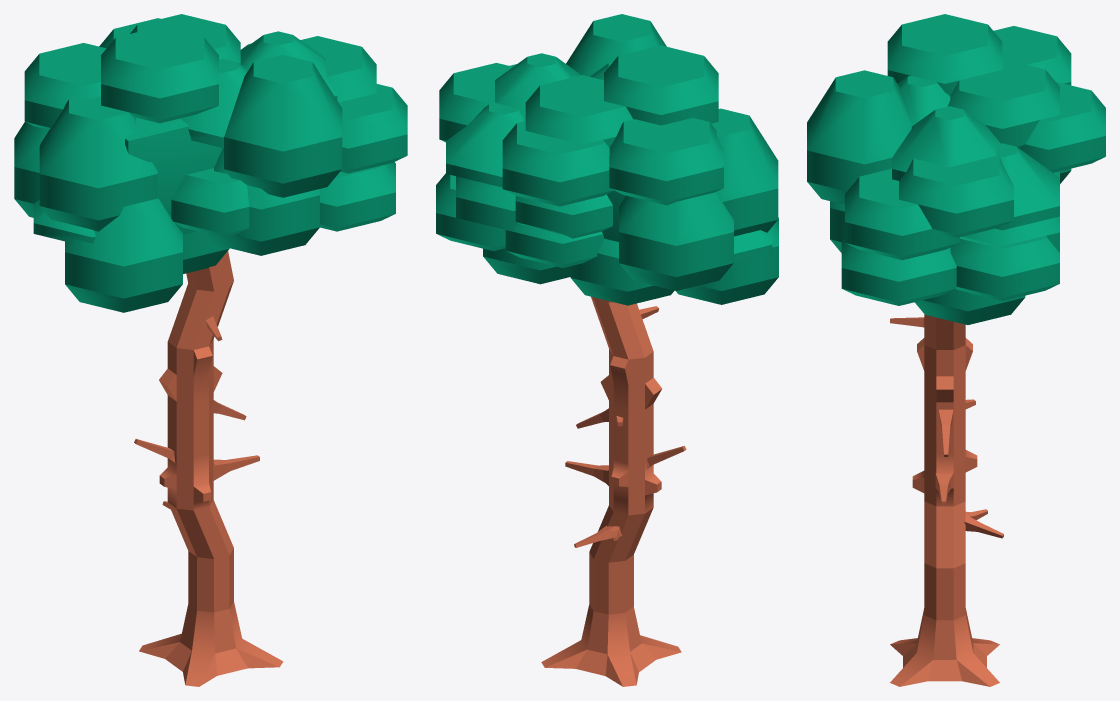
File: tree.glb
The picture shows the model from 3 angles, left to right: view 1: azimuth 30°, elevation 25°; view 2: azimuth 150°, elevation 25°; view 3: azimuth 270°, elevation 25°; orthographic projection. The views are drawn at different scales.
Parts seen in each view (by area): view 1: leafs_cone (×6), leafs_round (×7), trunk_baseDetailed, leafs_pineA (×3), trunk (×2), trunk_skewLarge (×2), leafs_square, trunk_detailedB, trunk_detailedA, trunk_skew; view 2: leafs_round (×9), leafs_cone (×6), leafs_pineA (×3), trunk_baseDetailed, trunk (×2), trunk_skewLarge (×2), trunk_detailedB, trunk_detailedA, leafs_square; view 3: leafs_round (×9), leafs_cone (×3), leafs_pineA (×3), trunk_baseDetailed, trunk (×2), trunk_skewLarge (×2), trunk_detailedB, trunk_detailedA, tree_branchLongSplit, tree_branchLong.
Boxes of the visible parts, x1,y1,x2,y2 form: leafs_cone (×6): [14, 55, 342, 312]; leafs_round (×7): [24, 14, 407, 237]; trunk_baseDetailed: [139, 602, 283, 686]; leafs_pineA (×3): [33, 31, 337, 243]; trunk (×2): [167, 393, 233, 612]; trunk_skewLarge (×2): [168, 281, 233, 558]; leafs_square: [125, 117, 222, 234]; trunk_detailedB: [159, 339, 222, 403]; trunk_detailedA: [159, 446, 214, 510]; trunk_skew: [186, 251, 233, 291]; leafs_round (×9): [436, 45, 723, 267]; leafs_cone (×6): [483, 14, 778, 305]; leafs_pineA (×3): [446, 53, 772, 264]; trunk_baseDetailed: [541, 604, 681, 686]; trunk (×2): [589, 401, 653, 614]; trunk_skewLarge (×2): [589, 296, 653, 562]; trunk_detailedB: [600, 349, 662, 411]; trunk_detailedA: [603, 453, 661, 515]; leafs_square: [602, 190, 625, 241]; leafs_round (×9): [841, 14, 1105, 305]; leafs_cone (×3): [807, 70, 1025, 324]; leafs_pineA (×3): [892, 75, 1059, 230]; trunk_baseDetailed: [890, 608, 999, 686]; trunk (×2): [924, 397, 965, 620]; trunk_skewLarge (×2): [924, 314, 965, 568]; trunk_detailedB: [917, 338, 972, 402]; trunk_detailedA: [912, 449, 977, 506]; tree_branchLongSplit: [964, 509, 1003, 538]; tree_branchLong: [938, 409, 953, 456].
Size of the model in its own units: 3.38 by 5.8 by 2.6.
